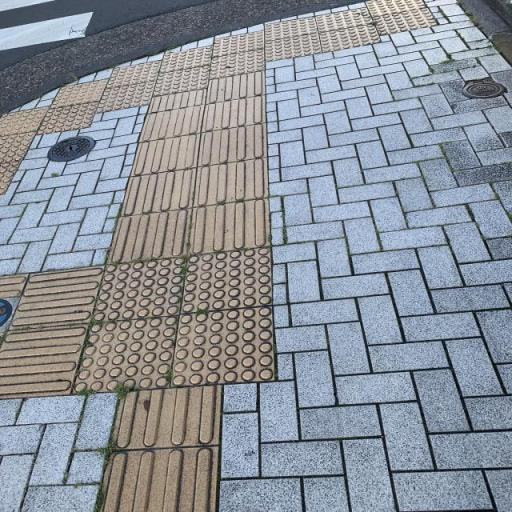dot: (70, 316, 180, 394), (170, 307, 276, 387), (91, 254, 187, 325), (181, 247, 274, 316)
line: (111, 384, 223, 449), (7, 267, 103, 331), (105, 208, 193, 266), (184, 197, 271, 255), (193, 157, 269, 208), (119, 168, 197, 216), (196, 123, 269, 167), (128, 133, 201, 177), (138, 104, 205, 141)
